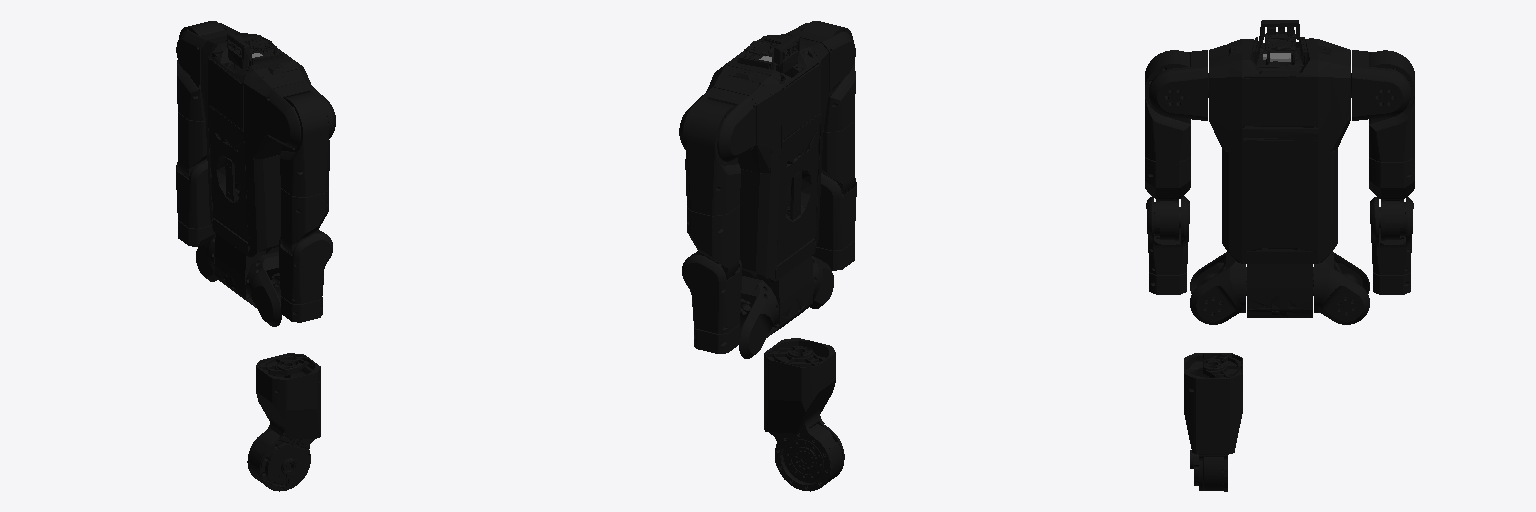
--- What the picture shows (computed from the rendered views, not written in the file) ---
Views: 3 orthographic renders of the robot side by side, from view 1: azimuth 30°, elevation 25°; view 2: azimuth 150°, elevation 25°; view 3: azimuth 270°, elevation 25°.
Model assy_forurdf with 23 links and 22 joints (20 revolute, 2 fixed), rooted at base, posed every joint at zero.
Visible links, largest first — view 1: KD_D_101L_L_Hip_Static, KD_D_301R, RS03_3, KC_C_401R_R_UpForearmDrive, KC_C_101R_ShldYokeDrive, KC_C_202R, KD_D_102R, KC_C_401L_Up_Forearm_Drive, RS03_4, KD_C_301L_LowerBicepDrive, KD_C_101L_ShldYokeDrive, PRT0001 (+2 smaller); view 2: KD_D_101L_L_Hip_Static, KD_D_301R, RS03_4, KC_C_401L_Up_Forearm_Drive, KD_C_101L_ShldYokeDrive, KD_C_301L_LowerBicepDrive, KD_D_102L_L_Hip_Yoke_Drive, KC_C_401R_R_UpForearmDrive, RS03_3, KC_C_202R, KC_C_101R_ShldYokeDrive, PRT0001_2 (+2 smaller); view 3: KD_D_101L_L_Hip_Static, KD_D_301R, KD_D_102L_L_Hip_Yoke_Drive, KD_D_102R, KD_C_101L_ShldYokeDrive, KC_C_101R_ShldYokeDrive, RS03_3, RS03_4, KC_C_202R, KD_C_301L_LowerBicepDrive, KC_C_401R_R_UpForearmDrive, KC_C_401L_Up_Forearm_Drive (+2 smaller).
Link boxes in pixels (<box>): KD_D_101L_L_Hip_Static: <box>201,33,310,307</box>; KD_D_301R: <box>247,353,320,491</box>; RS03_3: <box>280,92,329,196</box>; KC_C_401R_R_UpForearmDrive: <box>279,233,332,303</box>; KC_C_101R_ShldYokeDrive: <box>266,81,335,148</box>; KC_C_202R: <box>281,188,328,255</box>; KD_D_102R: <box>246,252,281,326</box>; KC_C_401L_Up_Forearm_Drive: <box>176,159,211,228</box>; RS03_4: <box>177,21,223,120</box>; KD_C_301L_LowerBicepDrive: <box>178,112,206,177</box>; KD_C_101L_ShldYokeDrive: <box>176,23,239,85</box>; PRT0001: <box>281,296,322,322</box>; KD_D_101L_L_Hip_Static: <box>706,34,828,337</box>; KD_D_301R: <box>764,338,844,491</box>; RS03_4: <box>685,99,740,215</box>; KC_C_401L_Up_Forearm_Drive: <box>682,255,741,333</box>; KD_C_101L_ShldYokeDrive: <box>679,87,755,161</box>; KD_C_301L_LowerBicepDrive: <box>687,205,739,279</box>; KD_D_102L_L_Hip_Yoke_Drive: <box>739,276,778,358</box>; KC_C_401R_R_UpForearmDrive: <box>817,173,856,250</box>; RS03_3: <box>803,21,855,131</box>; KC_C_202R: <box>822,122,854,194</box>; KC_C_101R_ShldYokeDrive: <box>786,23,855,91</box>; PRT0001_2: <box>694,324,739,353</box>; KD_D_101L_L_Hip_Static: <box>1209,20,1350,317</box>; KD_D_301R: <box>1184,353,1242,491</box>; KD_D_102L_L_Hip_Yoke_Drive: <box>1313,252,1369,324</box>; KD_D_102R: <box>1190,252,1246,324</box>; KD_C_101L_ShldYokeDrive: <box>1351,50,1410,120</box>; KC_C_101R_ShldYokeDrive: <box>1149,50,1208,120</box>; RS03_3: <box>1145,50,1190,161</box>; RS03_4: <box>1369,50,1414,161</box>; KC_C_202R: <box>1145,157,1190,240</box>; KD_C_301L_LowerBicepDrive: <box>1369,157,1414,240</box>; KC_C_401R_R_UpForearmDrive: <box>1146,196,1189,274</box>; KC_C_401L_Up_Forearm_Drive: <box>1370,197,1413,274</box>.
Bounding box of the posed robot: 0.151 × 0.516 × 0.9706 m (x, y, z).
Meshes: 22 distinct files referenced, 15 mesh visuals loaded (15 binary STL); not drawn: 7 (reference not matched to a file when rendering).

robot.urdf — assy_forurdf:
<?xml version="1.0" ?>
<robot name="assy_forurdf">
  <link name="base">
    <visual name="base_visual">
      <geometry name="base_geometry">
        <sphere radius="0.01"/>
      </geometry>
      <material name="base_material">
        <color rgba="1 0 0 1"/>
      </material>
      <origin xyz="0 0.035 0" rpy="0 0 1.5708"/>
    </visual>
    <inertial name="base_inertial">
      <mass value="0.001"/>
      <inertia ixx="0.000001" iyy="0.000001" izz="0.000001" ixy="0" ixz="0" iyz="0"/>
      <origin xyz="0 0.035 0" rpy="0 0 1.5708"/>
    </inertial>
  </link>
  <joint name="base_joint" type="fixed">
    <parent link="base"/>
    <child link="KD_D_101L_L_Hip_Static"/>
    <origin xyz="0 0.035 0" rpy="0 0 1.5708"/>
  </joint>
  <joint name="dof_left_hip_pitch_04" type="revolute">
    <origin xyz="0.030112 0.000852 -0.027644" rpy="-1.570796 0 1.570796"/>
    <parent link="KD_D_101L_L_Hip_Static"/>
    <child link="KD_D_102L_L_Hip_Yoke_Drive"/>
    <limit effort="120" velocity="17.488" lower="-1.047198" upper="2.216568"/>
    <axis xyz="0 0 1"/>
  </joint>
  <joint name="dof_left_hip_roll_03" type="revolute">
    <origin xyz="-0.028250 0.030000 -0.071000" rpy="3.141593 -1.570796 0"/>
    <parent link="KD_D_102L_L_Hip_Yoke_Drive"/>
    <child link="L_Hip_Roll_RS03"/>
    <limit effort="60" velocity="18.849" lower="-0.209440" upper="2.268928"/>
    <axis xyz="0 0 -1"/>
  </joint>
  <joint name="dof_right_hip_pitch_04" type="revolute">
    <origin xyz="-0.081888 0.000852 -0.027644" rpy="1.570796 0 1.570796"/>
    <parent link="KD_D_101L_L_Hip_Static"/>
    <child link="KD_D_102R"/>
    <limit effort="120" velocity="17.488" lower="-2.216568" upper="1.047198"/>
    <axis xyz="0 0 1"/>
  </joint>
  <joint name="dof_right_shoulder_pitch_03" type="revolute">
    <origin xyz="-0.146888 0.000852 0.382856" rpy="0 -1.570796 0"/>
    <parent link="KD_D_101L_L_Hip_Static"/>
    <child link="KC_C_101R_ShldYokeDrive"/>
    <limit effort="60" velocity="18.849" lower="-3.490658" upper="1.047198"/>
    <axis xyz="0 0 -1"/>
  </joint>
  <joint name="dof_left_shoulder_pitch_03" type="revolute">
    <origin xyz="0.095112 0.000852 0.382856" rpy="0 1.570796 0"/>
    <parent link="KD_D_101L_L_Hip_Static"/>
    <child link="KD_C_101L_ShldYokeDrive"/>
    <limit effort="60" velocity="18.849" lower="-1.047198" upper="3.490658"/>
    <axis xyz="0 0 -1"/>
  </joint>
  <joint name="dof_right_hip_roll_03" type="revolute">
    <origin xyz="-0.028250 -0.030000 -0.071000" rpy="0 -1.570796 0"/>
    <parent link="KD_D_102R"/>
    <child link="L_Hip_Roll_RS03_2"/>
    <limit effort="60" velocity="18.849" lower="-2.268928" upper="0.209440"/>
    <axis xyz="0 0 1"/>
  </joint>
  <joint name="dof_right_shoulder_roll_03" type="revolute">
    <origin xyz="0 -0.024250 0.080000" rpy="1.570796 1.570796 0"/>
    <parent link="KC_C_101R_ShldYokeDrive"/>
    <child link="RS03_3"/>
    <limit effort="60" velocity="18.849" lower="-1.658063" upper="0.436332"/>
    <axis xyz="0 0 1"/>
  </joint>
  <joint name="frame_imu_site" type="fixed" dont_collapse="true">
    <origin xyz="-0.025422 -0.001897 0.440523" rpy="0 0 0"/>
    <parent link="KD_D_101L_L_Hip_Static"/>
    <child link="imu"/>
  </joint>
  <joint name="dof_left_shoulder_roll_03" type="revolute">
    <origin xyz="0 -0.024250 0.080000" rpy="1.570796 -1.570796 0"/>
    <parent link="KD_C_101L_ShldYokeDrive"/>
    <child link="RS03_4"/>
    <limit effort="60" velocity="18.849" lower="-0.436332" upper="1.658063"/>
    <axis xyz="0 0 1"/>
  </joint>
  <joint name="dof_left_hip_yaw_03" type="revolute">
    <origin xyz="0 -0.143000 0.025250" rpy="1.570796 0 -3.141593"/>
    <parent link="L_Hip_Roll_RS03"/>
    <child link="KD_D_301L_L_Femur_Lower_Drive"/>
    <limit effort="60" velocity="18.849" lower="-1.570796" upper="1.570796"/>
    <axis xyz="0 0 1"/>
  </joint>
  <joint name="dof_right_hip_yaw_03" type="revolute">
    <origin xyz="0 -0.143000 -0.025250" rpy="-1.570796 0 0"/>
    <parent link="L_Hip_Roll_RS03_2"/>
    <child link="KD_D_301R"/>
    <limit effort="60" velocity="18.849" lower="-1.570796" upper="1.570796"/>
    <axis xyz="0 0 1"/>
  </joint>
  <joint name="dof_right_shoulder_yaw_02" type="revolute">
    <origin xyz="-0.013000 -0.142500 -0.031670" rpy="-1.570796 0 0"/>
    <parent link="RS03_3"/>
    <child link="KC_C_202R"/>
    <limit effort="17" velocity="37.699" lower="-1.671886" upper="1.671886"/>
    <axis xyz="0 0 1"/>
  </joint>
  <joint name="dof_left_shoulder_yaw_02" type="revolute">
    <origin xyz="0.013000 -0.142500 -0.030750" rpy="-1.570796 0 0"/>
    <parent link="RS03_4"/>
    <child link="KD_C_301L_LowerBicepDrive"/>
    <limit effort="17" velocity="37.699" lower="-1.671886" upper="1.671886"/>
    <axis xyz="0 0 1"/>
  </joint>
  <joint name="dof_left_knee_04" type="revolute">
    <origin xyz="-0.021000 0.021000 -0.212000" rpy="1.570796 0 1.570796"/>
    <parent link="KD_D_301L_L_Femur_Lower_Drive"/>
    <child link="KD_D_401L_L_Shin_Drive"/>
    <limit effort="120" velocity="17.488" lower="0" upper="2.705260"/>
    <axis xyz="0 0 1"/>
  </joint>
  <joint name="dof_left_ankle_02" type="revolute">
    <origin xyz="-0.030000 -0.290000 0.000950" rpy="3.141593 0 0"/>
    <parent link="KD_D_401L_L_Shin_Drive"/>
    <child link="LFootBushing_GPF_1517_12"/>
    <limit effort="17" velocity="37.699" lower="-1.134464" upper="0.261799"/>
    <axis xyz="0 0 -1"/>
  </joint>
  <joint name="dof_right_knee_04" type="revolute">
    <origin xyz="0.021000 0.021000 -0.212000" rpy="1.570796 0 1.570796"/>
    <parent link="KD_D_301R"/>
    <child link="KD_D_401R"/>
    <limit effort="120" velocity="17.488" lower="-2.705260" upper="0"/>
    <axis xyz="0 0 -1"/>
  </joint>
  <joint name="dof_right_elbow_02" type="revolute">
    <origin xyz="0.019000 -0.010000 -0.137000" rpy="-1.570796 0 1.570796"/>
    <parent link="KC_C_202R"/>
    <child link="KC_C_401R_R_UpForearmDrive"/>
    <limit effort="17" velocity="37.699" lower="0" upper="2.478368"/>
    <axis xyz="0 0 1"/>
  </joint>
  <joint name="dof_left_elbow_02" type="revolute">
    <origin xyz="-0.019000 -0.010000 -0.137000" rpy="1.570796 0 1.570796"/>
    <parent link="KD_C_301L_LowerBicepDrive"/>
    <child link="KC_C_401L_Up_Forearm_Drive"/>
    <limit effort="17" velocity="37.699" lower="-2.478368" upper="0"/>
    <axis xyz="0 0 1"/>
  </joint>
  <joint name="dof_right_ankle_02" type="revolute">
    <origin xyz="-0.030000 -0.290000 -0.000950" rpy="0 0 0"/>
    <parent link="KD_D_401R"/>
    <child link="RFootBushing_GPF_1517_12"/>
    <limit effort="17" velocity="37.699" lower="-0.261799" upper="1.134464"/>
    <axis xyz="0 0 -1"/>
  </joint>
  <joint name="dof_right_wrist_00" type="revolute">
    <origin xyz="0.017350 0.103000 0.018000" rpy="-1.570796 1.570796 0"/>
    <parent link="KC_C_401R_R_UpForearmDrive"/>
    <child link="PRT0001"/>
    <limit effort="14" velocity="27.227" lower="-1.378810" upper="1.378810"/>
    <axis xyz="0 0 -1"/>
  </joint>
  <joint name="dof_left_wrist_00" type="revolute">
    <origin xyz="0.017350 -0.103000 0.018000" rpy="1.570796 -1.570796 0"/>
    <parent link="KC_C_401L_Up_Forearm_Drive"/>
    <child link="PRT0001_2"/>
    <limit effort="14" velocity="27.227" lower="-1.378810" upper="1.378810"/>
    <axis xyz="0 0 -1"/>
  </joint>
  <link name="KD_D_101L_L_Hip_Static">
    <visual name="KD_D_101L_L_Hip_Static_visual">
      <origin xyz="0 0 0" rpy="0 0 0"/>
      <geometry name="KD_D_101L_L_Hip_Static_geometry">
        <mesh filename="meshes/KD_D_101L_L_Hip_Static.stl"/>
      </geometry>
      <material name="KD_D_101L_L_Hip_Static_material">
        <color rgba="0.121569 0.121569 0.121569 1"/>
      </material>
    </visual>
    <collision name="KD_D_101L_L_Hip_Static.collision">
      <origin xyz="0 0 0" rpy="0 0 0"/>
      <geometry name="KD_D_101L_L_Hip_Static_collision_geometry">
        <mesh filename="meshes/KD_D_101L_L_Hip_Static.collision.stl"/>
      </geometry>
    </collision>
    <inertial name="KD_D_101L_L_Hip_Static_inertial">
      <mass value="11.824875"/>
      <inertia ixx="0.367192" iyy="0.395569" izz="0.056774" ixy="0.000002" ixz="0.000012" iyz="-0.001526"/>
      <origin xyz="-0.025919 0.003348 0.170435" rpy="0 0 0"/>
    </inertial>
  </link>
  <link name="KD_D_102L_L_Hip_Yoke_Drive">
    <visual name="KD_D_102L_L_Hip_Yoke_Drive_visual">
      <origin xyz="0 0 0" rpy="0 0 0"/>
      <geometry name="KD_D_102L_L_Hip_Yoke_Drive_geometry">
        <mesh filename="meshes/KD_D_102L_L_Hip_Yoke_Drive.stl"/>
      </geometry>
      <material name="KD_D_102L_L_Hip_Yoke_Drive_material">
        <color rgba="0.121569 0.121569 0.121569 1"/>
      </material>
    </visual>
    <collision name="KD_D_102L_L_Hip_Yoke_Drive.collision">
      <origin xyz="0 0 0" rpy="0 0 0"/>
      <geometry name="KD_D_102L_L_Hip_Yoke_Drive_collision_geometry">
        <mesh filename="meshes/KD_D_102L_L_Hip_Yoke_Drive.collision.stl"/>
      </geometry>
    </collision>
    <inertial name="KD_D_102L_L_Hip_Yoke_Drive_inertial">
      <mass value="0.550354"/>
      <inertia ixx="0.000930" iyy="0.001251" izz="0.001328" ixy="0.000057" ixz="-0.000041" iyz="0.000182"/>
      <origin xyz="-0.004258 0.005667 -0.040380" rpy="0 0 0"/>
    </inertial>
  </link>
  <link name="L_Hip_Roll_RS03">
    <visual name="L_Hip_Roll_RS03_visual">
      <origin xyz="0 0 0" rpy="0 0 0"/>
      <geometry name="L_Hip_Roll_RS03_geometry">
        <mesh filename="meshes/L_Hip_Roll_RS03.stl"/>
      </geometry>
      <material name="L_Hip_Roll_RS03_material">
        <color rgba="0.121569 0.121569 0.121569 1"/>
      </material>
    </visual>
    <collision name="L_Hip_Roll_RS03.collision">
      <origin xyz="0 0 0" rpy="0 0 0"/>
      <geometry name="L_Hip_Roll_RS03_collision_geometry">
        <mesh filename="meshes/L_Hip_Roll_RS03.collision.stl"/>
      </geometry>
    </collision>
    <inertial name="L_Hip_Roll_RS03_inertial">
      <mass value="2.396969"/>
      <inertia ixx="0.010350" iyy="0.003224" izz="0.010755" ixy="0.000002" ixz="0.000009" iyz="-0.000303"/>
      <origin xyz="-0.000136 -0.059376 0.026066" rpy="0 0 0"/>
    </inertial>
  </link>
  <link name="KD_D_102R">
    <visual name="KD_D_102R_visual">
      <origin xyz="0 0 0" rpy="0 0 0"/>
      <geometry name="KD_D_102R_geometry">
        <mesh filename="meshes/KD_D_102R.stl"/>
      </geometry>
      <material name="KD_D_102R_material">
        <color rgba="0.121569 0.121569 0.121569 1"/>
      </material>
    </visual>
    <collision name="KD_D_102R.collision">
      <origin xyz="0 0 0" rpy="0 0 0"/>
      <geometry name="KD_D_102R_collision_geometry">
        <mesh filename="meshes/KD_D_102R.collision.stl"/>
      </geometry>
    </collision>
    <inertial name="KD_D_102R_inertial">
      <mass value="0.550361"/>
      <inertia ixx="0.000930" iyy="0.001251" izz="0.001328" ixy="-0.000057" ixz="-0.000041" iyz="-0.000182"/>
      <origin xyz="-0.004258 -0.005667 -0.040379" rpy="0 0 0"/>
    </inertial>
  </link>
  <link name="KC_C_101R_ShldYokeDrive">
    <visual name="KC_C_101R_ShldYokeDrive_visual">
      <origin xyz="0 0 0" rpy="0 0 0"/>
      <geometry name="KC_C_101R_ShldYokeDrive_geometry">
        <mesh filename="meshes/KC_C_101R_ShldYokeDrive.stl"/>
      </geometry>
      <material name="KC_C_101R_ShldYokeDrive_material">
        <color rgba="0.121569 0.121569 0.121569 1"/>
      </material>
    </visual>
    <collision name="KC_C_101R_ShldYokeDrive.collision">
      <origin xyz="0 0 0" rpy="0 0 0"/>
      <geometry name="KC_C_101R_ShldYokeDrive_collision_geometry">
        <mesh filename="meshes/KC_C_101R_ShldYokeDrive.collision.stl"/>
      </geometry>
    </collision>
    <inertial name="KC_C_101R_ShldYokeDrive_inertial">
      <mass value="0.569870"/>
      <inertia ixx="0.001409" iyy="0.001159" izz="0.001309" ixy="0" ixz="0.000001" iyz="0.000162"/>
      <origin xyz="0.003158 -0.007737 0.047375" rpy="0 0 0"/>
    </inertial>
  </link>
  <link name="KD_C_101L_ShldYokeDrive">
    <visual name="KD_C_101L_ShldYokeDrive_visual">
      <origin xyz="0 0 0" rpy="0 0 0"/>
      <geometry name="KD_C_101L_ShldYokeDrive_geometry">
        <mesh filename="meshes/KD_C_101L_ShldYokeDrive.stl"/>
      </geometry>
      <material name="KD_C_101L_ShldYokeDrive_material">
        <color rgba="0.121569 0.121569 0.121569 1"/>
      </material>
    </visual>
    <collision name="KD_C_101L_ShldYokeDrive.collision">
      <origin xyz="0 0 0" rpy="0 0 0"/>
      <geometry name="KD_C_101L_ShldYokeDrive_collision_geometry">
        <mesh filename="meshes/KD_C_101L_ShldYokeDrive.collision.stl"/>
      </geometry>
    </collision>
    <inertial name="KD_C_101L_ShldYokeDrive_inertial">
      <mass value="0.569863"/>
      <inertia ixx="0.001409" iyy="0.001159" izz="0.001309" ixy="0" ixz="-0.000001" iyz="0.000162"/>
      <origin xyz="-0.003158 -0.007737 0.047374" rpy="0 0 0"/>
    </inertial>
  </link>
  <link name="L_Hip_Roll_RS03_2">
    <visual name="L_Hip_Roll_RS03_visual_2">
      <origin xyz="0 0 0" rpy="0 0 0"/>
      <geometry name="L_Hip_Roll_RS03_geometry_2">
        <mesh filename="meshes/L_Hip_Roll_RS03_2.stl"/>
      </geometry>
      <material name="L_Hip_Roll_RS03_material_2">
        <color rgba="0.121569 0.121569 0.121569 1"/>
      </material>
    </visual>
    <collision name="L_Hip_Roll_RS03.collision_2">
      <origin xyz="0 0 0" rpy="0 0 0"/>
      <geometry name="L_Hip_Roll_RS03_collision_geometry_2">
        <mesh filename="meshes/L_Hip_Roll_RS03_2.collision.stl"/>
      </geometry>
    </collision>
    <inertial name="L_Hip_Roll_RS03_inertial_2">
      <mass value="2.396917"/>
      <inertia ixx="0.010350" iyy="0.003224" izz="0.010755" ixy="0.000002" ixz="-0.000009" iyz="0.000303"/>
      <origin xyz="-0.000137 -0.059376 -0.026067" rpy="0 0 0"/>
    </inertial>
  </link>
  <link name="RS03_3">
    <visual name="RS03_visual_3">
      <origin xyz="0 0 0" rpy="0 0 0"/>
      <geometry name="RS03_geometry_3">
        <mesh filename="meshes/RS03_3.stl"/>
      </geometry>
      <material name="RS03_material_3">
        <color rgba="0.121569 0.121569 0.121569 1"/>
      </material>
    </visual>
    <collision name="RS03.collision_3">
      <origin xyz="0 0 0" rpy="0 0 0"/>
      <geometry name="RS03_collision_geometry_3">
        <mesh filename="meshes/RS03_3.collision.stl"/>
      </geometry>
    </collision>
    <inertial name="RS03_inertial_3">
      <mass value="1.789232"/>
      <inertia ixx="0.007176" iyy="0.001972" izz="0.007602" ixy="-0.000597" ixz="-0.000001" iyz="-0.000081"/>
      <origin xyz="-0.004909 -0.041175 -0.029409" rpy="0 0 0"/>
    </inertial>
  </link>
  <link name="imu">
    <visual name="imu_visual">
      <origin xyz="0 0 0" rpy="0 0 0"/>
      <geometry name="imu_geometry">
        <mesh filename="meshes/imu.stl"/>
      </geometry>
      <material name="imu_material">
        <color rgba="0.498039 0.498039 0.498039 1"/>
      </material>
    </visual>
    <collision name="imu.collision">
      <origin xyz="0 0 0" rpy="0 0 0"/>
      <geometry name="imu_collision_geometry">
        <mesh filename="meshes/imu.collision.stl"/>
      </geometry>
    </collision>
    <inertial name="imu_inertial">
      <mass value="0.005700"/>
      <inertia ixx="0.000001" iyy="0.000001" izz="0.000002" ixy="0" ixz="0" iyz="0"/>
      <origin xyz="-0.003012 0 0.002999" rpy="0 0 0"/>
    </inertial>
  </link>
  <link name="RS03_4">
    <visual name="RS03_visual_4">
      <origin xyz="0 0 0" rpy="0 0 0"/>
      <geometry name="RS03_geometry_4">
        <mesh filename="meshes/RS03_4.stl"/>
      </geometry>
      <material name="RS03_material_4">
        <color rgba="0.121569 0.121569 0.121569 1"/>
      </material>
    </visual>
    <collision name="RS03.collision_4">
      <origin xyz="0 0 0" rpy="0 0 0"/>
      <geometry name="RS03_collision_geometry_4">
        <mesh filename="meshes/RS03_4.collision.stl"/>
      </geometry>
    </collision>
    <inertial name="RS03_inertial_4">
      <mass value="1.789190"/>
      <inertia ixx="0.007175" iyy="0.001972" izz="0.007602" ixy="0.000599" ixz="0.000012" iyz="-0.000104"/>
      <origin xyz="0.004876 -0.041173 -0.029352" rpy="0 0 0"/>
    </inertial>
  </link>
  <link name="KD_D_301L_L_Femur_Lower_Drive">
    <visual name="KD_D_301L_L_Femur_Lower_Drive_visual">
      <origin xyz="0 0 0" rpy="0 0 0"/>
      <geometry name="KD_D_301L_L_Femur_Lower_Drive_geometry">
        <mesh filename="meshes/KD_D_301L_L_Femur_Lower_Drive.stl"/>
      </geometry>
      <material name="KD_D_301L_L_Femur_Lower_Drive_material">
        <color rgba="0.121569 0.121569 0.121569 1"/>
      </material>
    </visual>
    <collision name="KD_D_301L_L_Femur_Lower_Drive.collision">
      <origin xyz="0 0 0" rpy="0 0 0"/>
      <geometry name="KD_D_301L_L_Femur_Lower_Drive_collision_geometry">
        <mesh filename="meshes/KD_D_301L_L_Femur_Lower_Drive.collision.stl"/>
      </geometry>
    </collision>
    <inertial name="KD_D_301L_L_Femur_Lower_Drive_inertial">
      <mass value="2.349254"/>
      <inertia ixx="0.015361" iyy="0.013924" izz="0.004011" ixy="-0.000189" ixz="0.001119" iyz="0.001496"/>
      <origin xyz="0.001576 0.013392 -0.172799" rpy="0 0 0"/>
    </inertial>
  </link>
  <link name="KD_D_301R">
    <visual name="KD_D_301R_visual">
      <origin xyz="0 0 0" rpy="0 0 0"/>
      <geometry name="KD_D_301R_geometry">
        <mesh filename="meshes/KD_D_301R.stl"/>
      </geometry>
      <material name="KD_D_301R_material">
        <color rgba="0.121569 0.121569 0.121569 1"/>
      </material>
    </visual>
    <collision name="KD_D_301R.collision">
      <origin xyz="0 0 0" rpy="0 0 0"/>
      <geometry name="KD_D_301R_collision_geometry">
        <mesh filename="meshes/KD_D_301R.collision.stl"/>
      </geometry>
    </collision>
    <inertial name="KD_D_301R_inertial">
      <mass value="2.349261"/>
      <inertia ixx="0.015362" iyy="0.013924" izz="0.004011" ixy="0.000189" ixz="-0.001119" iyz="0.001496"/>
      <origin xyz="-0.001577 0.013392 -0.172799" rpy="0 0 0"/>
    </inertial>
  </link>
  <link name="KC_C_202R">
    <visual name="KC_C_202R_visual">
      <origin xyz="0 0 0" rpy="0 0 0"/>
      <geometry name="KC_C_202R_geometry">
        <mesh filename="meshes/KC_C_202R.stl"/>
      </geometry>
      <material name="KC_C_202R_material">
        <color rgba="0.121569 0.121569 0.121569 1"/>
      </material>
    </visual>
    <collision name="KC_C_202R.collision">
      <origin xyz="0 0 0" rpy="0 0 0"/>
      <geometry name="KC_C_202R_collision_geometry">
        <mesh filename="meshes/KC_C_202R.collision.stl"/>
      </geometry>
    </collision>
    <inertial name="KC_C_202R_inertial">
      <mass value="0.753224"/>
      <inertia ixx="0.002457" iyy="0.002305" izz="0.000727" ixy="-0.000034" ixz="-0.000250" iyz="-0.000139"/>
      <origin xyz="0.003135 -0.003955 -0.099599" rpy="0 0 0"/>
    </inertial>
  </link>
  <link name="KD_C_301L_LowerBicepDrive">
    <visual name="KD_C_301L_LowerBicepDrive_visual">
      <origin xyz="0 0 0" rpy="0 0 0"/>
      <geometry name="KD_C_301L_LowerBicepDrive_geometry">
        <mesh filename="meshes/KD_C_301L_LowerBicepDrive.stl"/>
      </geometry>
      <material name="KD_C_301L_LowerBicepDrive_material">
        <color rgba="0.121569 0.121569 0.121569 1"/>
      </material>
    </visual>
    <collision name="KD_C_301L_LowerBicepDrive.collision">
      <origin xyz="0 0 0" rpy="0 0 0"/>
      <geometry name="KD_C_301L_LowerBicepDrive_collision_geometry">
        <mesh filename="meshes/KD_C_301L_LowerBicepDrive.collision.stl"/>
      </geometry>
    </collision>
    <inertial name="KD_C_301L_LowerBicepDrive_inertial">
      <mass value="0.866827"/>
      <inertia ixx="0.002953" iyy="0.002777" izz="0.000923" ixy="0.000016" ixz="0.000145" iyz="-0.000150"/>
      <origin xyz="0.000333 -0.002948 -0.095705" rpy="0 0 0"/>
    </inertial>
  </link>
  <link name="KD_D_401L_L_Shin_Drive">
    <visual name="KD_D_401L_L_Shin_Drive_visual">
      <origin xyz="0 0 0" rpy="0 0 0"/>
      <geometry name="KD_D_401L_L_Shin_Drive_geometry">
        <mesh filename="meshes/KD_D_401L_L_Shin_Drive.stl"/>
      </geometry>
      <material name="KD_D_401L_L_Shin_Drive_material">
        <color rgba="0.121569 0.121569 0.121569 1"/>
      </material>
    </visual>
    <collision name="KD_D_401L_L_Shin_Drive.collision">
      <origin xyz="0 0 0" rpy="0 0 0"/>
      <geometry name="KD_D_401L_L_Shin_Drive_collision_geometry">
        <mesh filename="meshes/KD_D_401L_L_Shin_Drive.collision.stl"/>
      </geometry>
    </collision>
    <inertial name="KD_D_401L_L_Shin_Drive_inertial">
      <mass value="1.684707"/>
      <inertia ixx="0.014785" iyy="0.002991" izz="0.014664" ixy="-0.000101" ixz="0.000022" iyz="0.000493"/>
      <origin xyz="-0.024116 -0.104308 0.018559" rpy="0 0 0"/>
    </inertial>
  </link>
  <link name="LFootBushing_GPF_1517_12">
    <visual name="LFootBushing_GPF_1517_12_visual">
      <origin xyz="0 0 0" rpy="0 0 0"/>
      <geometry name="LFootBushing_GPF_1517_12_geometry">
        <mesh filename="meshes/LFootBushing_GPF_1517_12.stl"/>
      </geometry>
      <material name="LFootBushing_GPF_1517_12_material">
        <color rgba="0.121569 0.121569 0.121569 1"/>
      </material>
    </visual>
    <collision name="LFootBushing_GPF_1517_12.collision">
      <origin xyz="0 0 0" rpy="0 0 0"/>
      <geometry name="LFootBushing_GPF_1517_12_collision_geometry">
        <mesh filename="meshes/LFootBushing_GPF_1517_12.collision.stl"/>
      </geometry>
    </collision>
    <inertial name="LFootBushing_GPF_1517_12_inertial">
      <mass value="0.608966"/>
      <inertia ixx="0.000377" iyy="0.001940" izz="0.001893" ixy="0.000126" ixz="-0.000025" iyz="0.000027"/>
      <origin xyz="-0.016549 0.031142 -0.012943" rpy="0 0 0"/>
    </inertial>
  </link>
  <link name="KD_D_401R">
    <visual name="KD_D_401R_visual">
      <origin xyz="0 0 0" rpy="0 0 0"/>
      <geometry name="KD_D_401R_geometry">
        <mesh filename="meshes/KD_D_401R.stl"/>
      </geometry>
      <material name="KD_D_401R_material">
        <color rgba="0.121569 0.121569 0.121569 1"/>
      </material>
    </visual>
    <collision name="KD_D_401R.collision">
      <origin xyz="0 0 0" rpy="0 0 0"/>
      <geometry name="KD_D_401R_collision_geometry">
        <mesh filename="meshes/KD_D_401R.collision.stl"/>
      </geometry>
    </collision>
    <inertial name="KD_D_401R_inertial">
      <mass value="1.684717"/>
      <inertia ixx="0.014785" iyy="0.002991" izz="0.014664" ixy="-0.000101" ixz="-0.000022" iyz="-0.000494"/>
      <origin xyz="-0.024117 -0.104310 -0.018558" rpy="0 0 0"/>
    </inertial>
  </link>
  <link name="KC_C_401R_R_UpForearmDrive">
    <visual name="KC_C_401R_R_UpForearmDrive_visual">
      <origin xyz="0 0 0" rpy="0 0 0"/>
      <geometry name="KC_C_401R_R_UpForearmDrive_geometry">
        <mesh filename="meshes/KC_C_401R_R_UpForearmDrive.stl"/>
      </geometry>
      <material name="KC_C_401R_R_UpForearmDrive_material">
        <color rgba="0.121569 0.121569 0.121569 1"/>
      </material>
    </visual>
    <collision name="KC_C_401R_R_UpForearmDrive.collision">
      <origin xyz="0 0 0" rpy="0 0 0"/>
      <geometry name="KC_C_401R_R_UpForearmDrive_collision_geometry">
        <mesh filename="meshes/KC_C_401R_R_UpForearmDrive.collision.stl"/>
      </geometry>
    </collision>
    <inertial name="KC_C_401R_R_UpForearmDrive_inertial">
      <mass value="0.641859"/>
      <inertia ixx="0.001302" iyy="0.000701" izz="0.001278" ixy="-0.000051" ixz="-0.000010" iyz="-0.000045"/>
      <origin xyz="0.015853 0.061198 0.015613" rpy="0 0 0"/>
    </inertial>
  </link>
  <link name="KC_C_401L_Up_Forearm_Drive">
    <visual name="KC_C_401L_Up_Forearm_Drive_visual">
      <origin xyz="0 0 0" rpy="0 0 0"/>
      <geometry name="KC_C_401L_Up_Forearm_Drive_geometry">
        <mesh filename="meshes/KC_C_401L_Up_Forearm_Drive.stl"/>
      </geometry>
      <material name="KC_C_401L_Up_Forearm_Drive_material">
        <color rgba="0.121569 0.121569 0.121569 1"/>
      </material>
    </visual>
    <collision name="KC_C_401L_Up_Forearm_Drive.collision">
      <origin xyz="0 0 0" rpy="0 0 0"/>
      <geometry name="KC_C_401L_Up_Forearm_Drive_collision_geometry">
        <mesh filename="meshes/KC_C_401L_Up_Forearm_Drive.collision.stl"/>
      </geometry>
    </collision>
    <inertial name="KC_C_401L_Up_Forearm_Drive_inertial">
      <mass value="0.641873"/>
      <inertia ixx="0.001303" iyy="0.000701" izz="0.001278" ixy="0.000051" ixz="-0.000010" iyz="0.000048"/>
      <origin xyz="0.015853 -0.061197 0.015921" rpy="0 0 0"/>
    </inertial>
  </link>
  <link name="RFootBushing_GPF_1517_12">
    <visual name="RFootBushing_GPF_1517_12_visual">
      <origin xyz="0 0 0" rpy="0 0 0"/>
      <geometry name="RFootBushing_GPF_1517_12_geometry">
        <mesh filename="meshes/RFootBushing_GPF_1517_12.stl"/>
      </geometry>
      <material name="RFootBushing_GPF_1517_12_material">
        <color rgba="0.121569 0.121569 0.121569 1"/>
      </material>
    </visual>
    <collision name="RFootBushing_GPF_1517_12.collision">
      <origin xyz="0 0 0" rpy="0 0 0"/>
      <geometry name="RFootBushing_GPF_1517_12_collision_geometry">
        <mesh filename="meshes/RFootBushing_GPF_1517_12.collision.stl"/>
      </geometry>
    </collision>
    <inertial name="RFootBushing_GPF_1517_12_inertial">
      <mass value="0.608742"/>
      <inertia ixx="0.000377" iyy="0.001939" izz="0.001892" ixy="-0.000126" ixz="-0.000025" iyz="-0.000027"/>
      <origin xyz="-0.016546 -0.031136 -0.012942" rpy="0 0 0"/>
    </inertial>
  </link>
  <link name="PRT0001">
    <visual name="PRT0001_visual">
      <origin xyz="0 0 0" rpy="0 0 0"/>
      <geometry name="PRT0001_geometry">
        <mesh filename="meshes/PRT0001.stl"/>
      </geometry>
      <material name="PRT0001_material">
        <color rgba="0.121569 0.121569 0.121569 1"/>
      </material>
    </visual>
    <collision name="PRT0001.collision">
      <origin xyz="0 0 0" rpy="0 0 0"/>
      <geometry name="PRT0001_collision_geometry">
        <mesh filename="meshes/PRT0001.collision.stl"/>
      </geometry>
    </collision>
    <inertial name="PRT0001_inertial">
      <mass value="0.462356"/>
      <inertia ixx="0.000274" iyy="0.000266" izz="0.000406" ixy="0" ixz="0.000002" iyz="0"/>
      <origin xyz="0.000357 0.000031 0.027390" rpy="0 0 0"/>
    </inertial>
  </link>
  <link name="PRT0001_2">
    <visual name="PRT0001_visual_2">
      <origin xyz="0 0 0" rpy="0 0 0"/>
      <geometry name="PRT0001_geometry_2">
        <mesh filename="meshes/PRT0001_2.stl"/>
      </geometry>
      <material name="PRT0001_material_2">
        <color rgba="0.121569 0.121569 0.121569 1"/>
      </material>
    </visual>
    <collision name="PRT0001.collision_2">
      <origin xyz="0 0 0" rpy="0 0 0"/>
      <geometry name="PRT0001_collision_geometry_2">
        <mesh filename="meshes/PRT0001_2.collision.stl"/>
      </geometry>
    </collision>
    <inertial name="PRT0001_inertial_2">
      <mass value="0.462356"/>
      <inertia ixx="0.000274" iyy="0.000266" izz="0.000406" ixy="0" ixz="-0.000002" iyz="0"/>
      <origin xyz="-0.000357 -0.000031 0.027390" rpy="0 0 0"/>
    </inertial>
  </link>
</robot>
